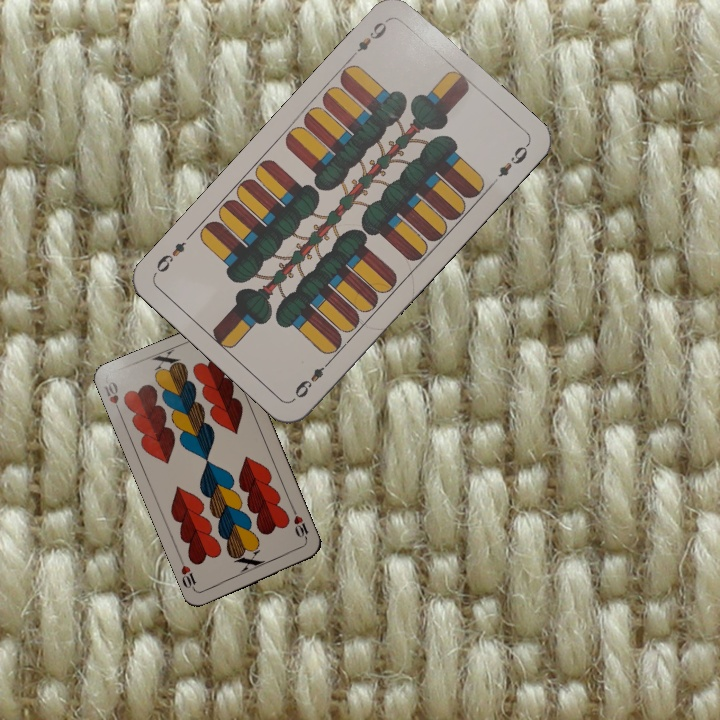E9: (346, 14, 391, 61), (290, 355, 335, 401)
H10: (100, 378, 124, 417), (288, 505, 311, 544)
